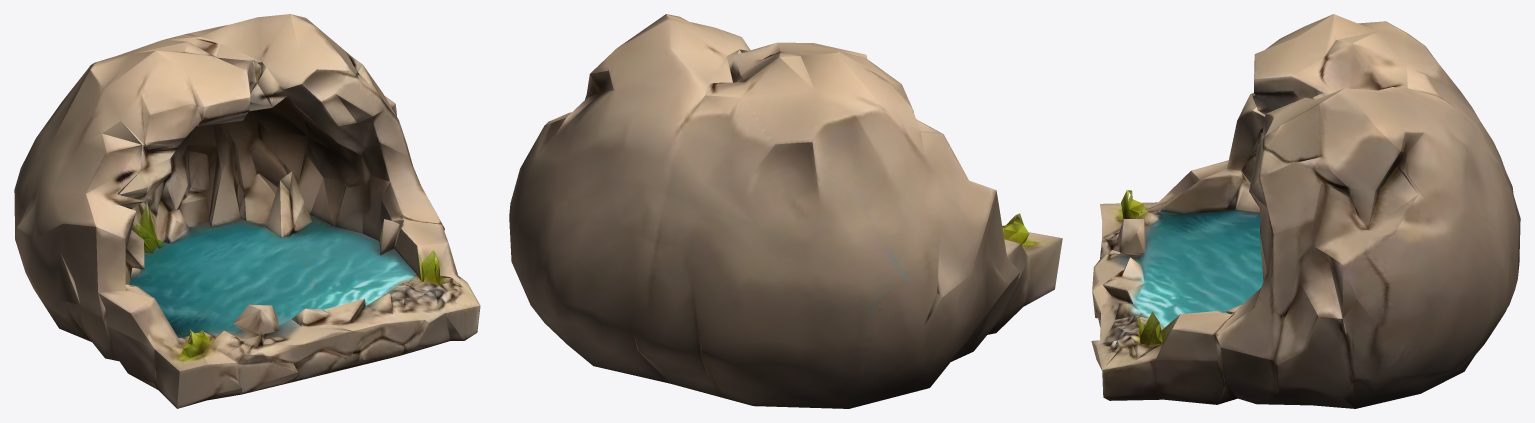
Rendered from aquariumRock.glb.
The picture shows the model from 3 angles, left to right: view 1: azimuth 30°, elevation 25°; view 2: azimuth 150°, elevation 25°; view 3: azimuth 270°, elevation 25°; orthographic projection. The views are drawn at different scales.
Parts seen in each view (by area): view 1: model; view 2: model; view 3: model.
Boxes of the visible parts, x1=… form: model: x1=14, y1=14, x2=480, y2=408; model: x1=509, y1=14, x2=1062, y2=408; model: x1=1091, y1=14, x2=1520, y2=408.
Size of the model in its own units: 1.89 by 1.28 by 1.78.
Materials: 1 (1 with a texture image).
